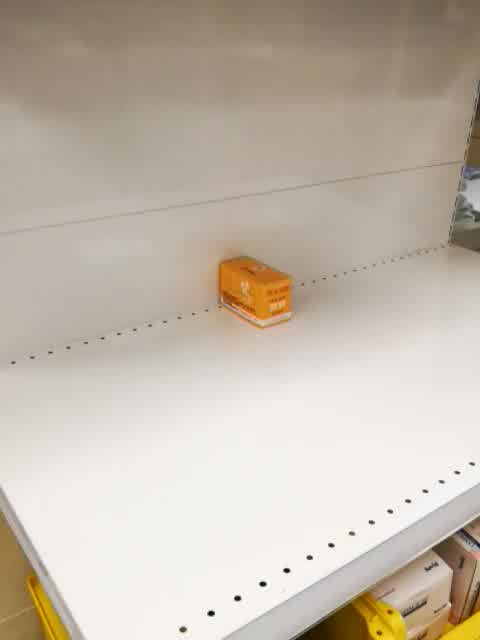jasminetea: (218, 253, 293, 329)
